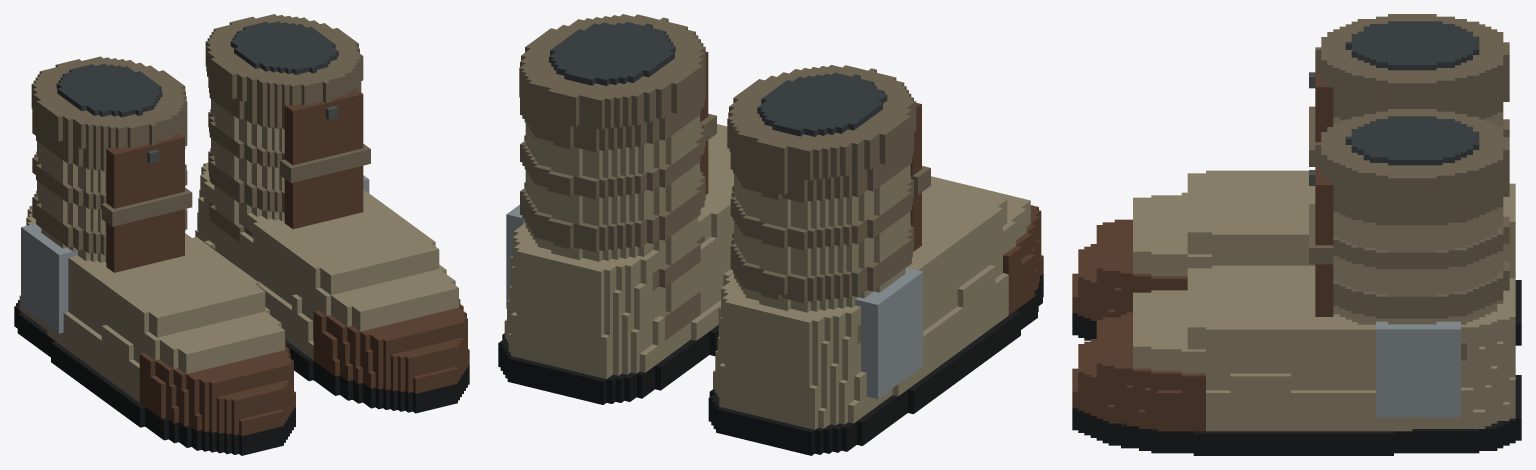
The model's file is boots_scrap.glb.
3 views of the same model, side by side, from view 1: azimuth 30°, elevation 25°; view 2: azimuth 150°, elevation 25°; view 3: azimuth 270°, elevation 25° (orthographic). The views are drawn at different scales.
Visible parts, largest first — view 1: boots_scrap:compound; view 2: boots_scrap:compound; view 3: boots_scrap:compound.
Boxes of the visible parts, x1,y1,x2,y2 form: boots_scrap:compound: [14, 14, 469, 455]; boots_scrap:compound: [498, 14, 1043, 455]; boots_scrap:compound: [1072, 14, 1521, 455].
Bounding box in the file's own units: 0.264 × 0.204 × 0.296.
